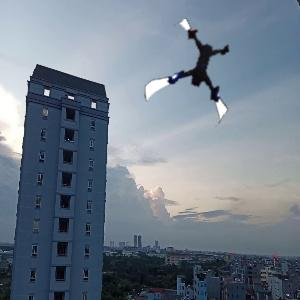drone: (151, 29, 248, 126)
